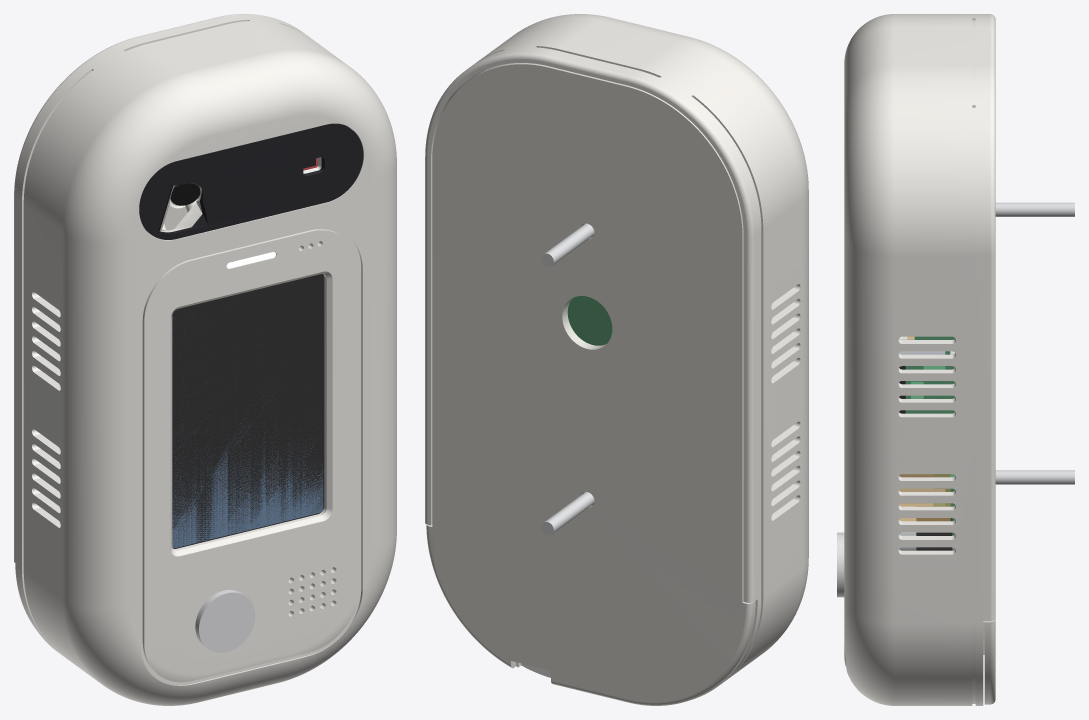
File: DataCat_doorbell_RevE.glb
The picture shows the model from 3 angles, left to right: view 1: azimuth 30°, elevation 25°; view 2: azimuth 150°, elevation 25°; view 3: azimuth 270°, elevation 25°; orthographic projection.
Visible parts, largest first — view 1: 01_front_shell, REF_hdmi_lcd_3p5in, 04_black_visor, REF_lcd_screen, REF_button_16mm; view 2: 03_wall_plate, 01_front_shell, HW_4x25_wall, REF_raspberry_pi_4; view 3: 01_front_shell, HW_4x25_wall, REF_raspberry_pi_4, 03_wall_plate, KEEP_hdmi_fpc_cable, REF_button_16mm, REF_usbc_plug, 02_lcd_pi_chassis.
Boxes of the visible parts, x1,y1,x2,y2 form: 01_front_shell: (14, 14, 396, 705); REF_hdmi_lcd_3p5in: (172, 274, 324, 548); 04_black_visor: (139, 123, 363, 239); REF_lcd_screen: (172, 318, 323, 548); REF_button_16mm: (195, 590, 255, 652); 03_wall_plate: (426, 63, 755, 705); 01_front_shell: (425, 14, 808, 698); HW_4x25_wall: (541, 223, 594, 535); REF_raspberry_pi_4: (567, 296, 612, 345); 01_front_shell: (844, 14, 995, 705); HW_4x25_wall: (995, 202, 1074, 484); REF_raspberry_pi_4: (905, 336, 955, 535); 03_wall_plate: (983, 620, 995, 704); KEEP_hdmi_fpc_cable: (899, 474, 950, 521); REF_button_16mm: (837, 532, 844, 597); REF_usbc_plug: (916, 506, 952, 550); 02_lcd_pi_chassis: (899, 351, 945, 550).
Bounding box in the file's own units: 0.105 × 0.1928 × 0.066.
